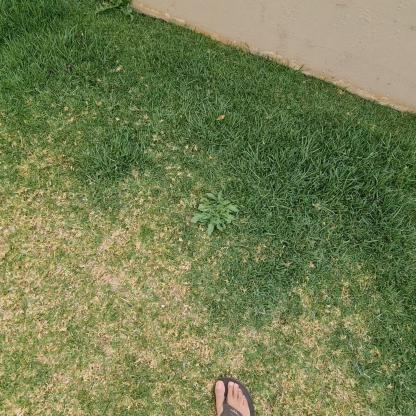Weeds: (187, 190, 240, 236), (92, 0, 133, 24)
